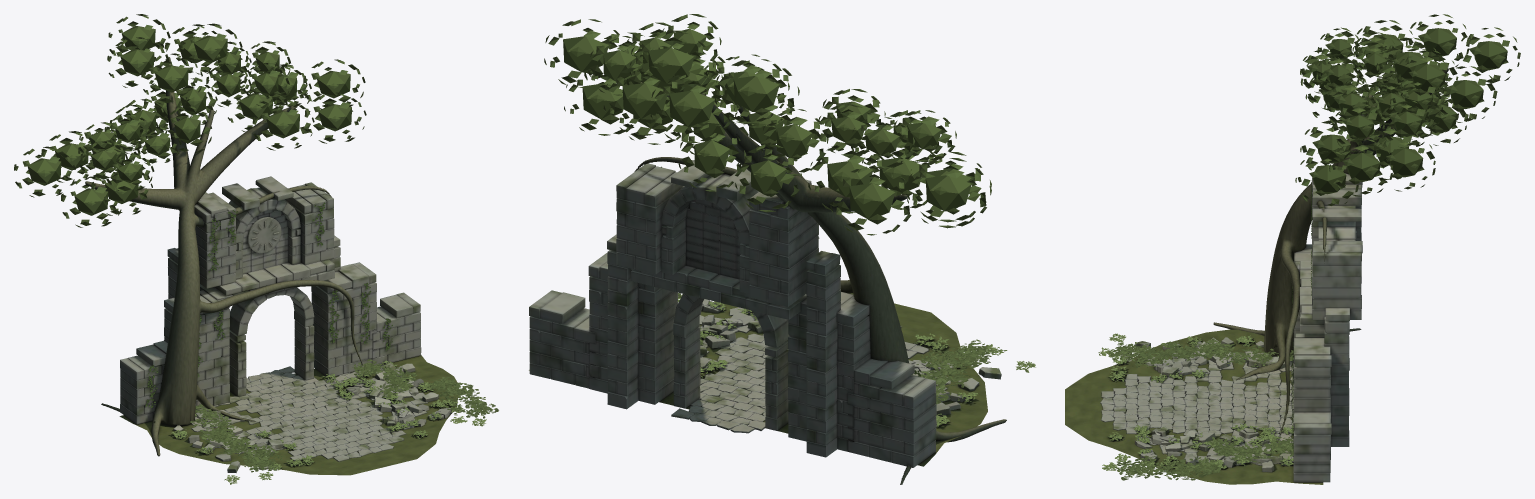
File: exterior.glb
The picture shows the model from 3 angles, left to right: view 1: azimuth 30°, elevation 25°; view 2: azimuth 150°, elevation 25°; view 3: azimuth 270°, elevation 25°; orthographic projection. The views are drawn at different scales.
Visible parts, largest first — view 1: ArchiveExterior_Stone_Cell_-1_-5, ArchiveExterior_Courtyard_Cell_-1_-5, ArchiveExterior_Foliage_Cell_-1_-5, ArchiveExterior_Wood_Cell_-1_-5, ArchiveExterior_Foliage_Cell_-1_-6, ArchiveExterior_Foliage_Cell_-2_-5, PD11_Foliage_archive-exterior_Cell_-1_-5, ArchiveExterior_Stone_Cell_-2_-5, ArchiveExterior_Stone_Cell_0_-5, PD11_Foliage_archive-exterior_Cell_0_-5, ArchiveExterior_Courtyard_Cell_-1_-4, ArchiveExterior_Wood_Cell_-2_-5 (+2 smaller); view 2: ArchiveExterior_Stone_Cell_-1_-5, ArchiveExterior_Foliage_Cell_-1_-6, ArchiveExterior_Courtyard_Cell_-1_-5, ArchiveExterior_Foliage_Cell_-1_-5, ArchiveExterior_Foliage_Cell_-2_-5, ArchiveExterior_Wood_Cell_-1_-5, ArchiveExterior_Stone_Cell_-2_-5, ArchiveExterior_Foliage_Cell_-2_-6, ArchiveExterior_Stone_Cell_0_-5, PD11_Foliage_archive-exterior_Cell_-1_-5, ArchiveExterior_Wood_Cell_-1_-6, ArchiveExterior_Wood_Cell_-2_-5; view 3: ArchiveExterior_Courtyard_Cell_-1_-5, ArchiveExterior_Stone_Cell_-1_-5, ArchiveExterior_Foliage_Cell_-1_-5, ArchiveExterior_Foliage_Cell_-1_-6, ArchiveExterior_Wood_Cell_-1_-5, PD11_Foliage_archive-exterior_Cell_-1_-5, ArchiveExterior_Foliage_Cell_-2_-5, ArchiveExterior_Stone_Cell_0_-5, PD11_Foliage_archive-exterior_Cell_0_-5, ArchiveExterior_Courtyard_Cell_-1_-4, ArchiveExterior_Courtyard_Cell_0_-5.
Boxes of the visible parts, x1,y1,x2,y2 form: ArchiveExterior_Stone_Cell_-1_-5: (152, 176, 404, 409); ArchiveExterior_Courtyard_Cell_-1_-5: (119, 355, 457, 475); ArchiveExterior_Foliage_Cell_-1_-5: (113, 47, 484, 480); ArchiveExterior_Wood_Cell_-1_-5: (130, 105, 366, 425); ArchiveExterior_Foliage_Cell_-1_-6: (107, 14, 310, 160); ArchiveExterior_Foliage_Cell_-2_-5: (14, 115, 239, 484); PD11_Foliage_archive-exterior_Cell_-1_-5: (190, 359, 477, 472); ArchiveExterior_Stone_Cell_-2_-5: (120, 344, 164, 424); ArchiveExterior_Stone_Cell_0_-5: (380, 292, 421, 358); PD11_Foliage_archive-exterior_Cell_0_-5: (431, 377, 498, 418); ArchiveExterior_Courtyard_Cell_-1_-4: (287, 433, 438, 475); ArchiveExterior_Wood_Cell_-2_-5: (85, 181, 173, 456); ArchiveExterior_Stone_Cell_-1_-5: (551, 160, 913, 462); ArchiveExterior_Foliage_Cell_-1_-6: (564, 30, 848, 212); ArchiveExterior_Courtyard_Cell_-1_-5: (529, 299, 999, 466); ArchiveExterior_Foliage_Cell_-1_-5: (544, 14, 1007, 400); ArchiveExterior_Foliage_Cell_-2_-5: (836, 103, 1035, 427); ArchiveExterior_Wood_Cell_-1_-5: (634, 82, 909, 363); ArchiveExterior_Stone_Cell_-2_-5: (870, 365, 936, 467); ArchiveExterior_Foliage_Cell_-2_-6: (828, 155, 974, 235); ArchiveExterior_Stone_Cell_0_-5: (529, 290, 589, 384); PD11_Foliage_archive-exterior_Cell_-1_-5: (678, 293, 995, 404); ArchiveExterior_Wood_Cell_-1_-6: (702, 93, 760, 163); ArchiveExterior_Wood_Cell_-2_-5: (892, 194, 1006, 484); ArchiveExterior_Courtyard_Cell_-1_-5: (1065, 332, 1323, 484); ArchiveExterior_Stone_Cell_-1_-5: (1293, 173, 1362, 450); ArchiveExterior_Foliage_Cell_-1_-5: (1101, 45, 1408, 469); ArchiveExterior_Foliage_Cell_-1_-6: (1391, 14, 1520, 191); ArchiveExterior_Wood_Cell_-1_-5: (1236, 105, 1396, 440); PD11_Foliage_archive-exterior_Cell_-1_-5: (1108, 338, 1293, 467); ArchiveExterior_Foliage_Cell_-2_-5: (1109, 20, 1403, 344); ArchiveExterior_Stone_Cell_0_-5: (1293, 414, 1331, 482); PD11_Foliage_archive-exterior_Cell_0_-5: (1112, 459, 1220, 480); ArchiveExterior_Courtyard_Cell_-1_-4: (1065, 366, 1111, 447); ArchiveExterior_Courtyard_Cell_0_-5: (1136, 457, 1320, 484).
Size of the model in its own units: 37.35 by 31.56 by 36.88.
4 materials, 3 textured.
